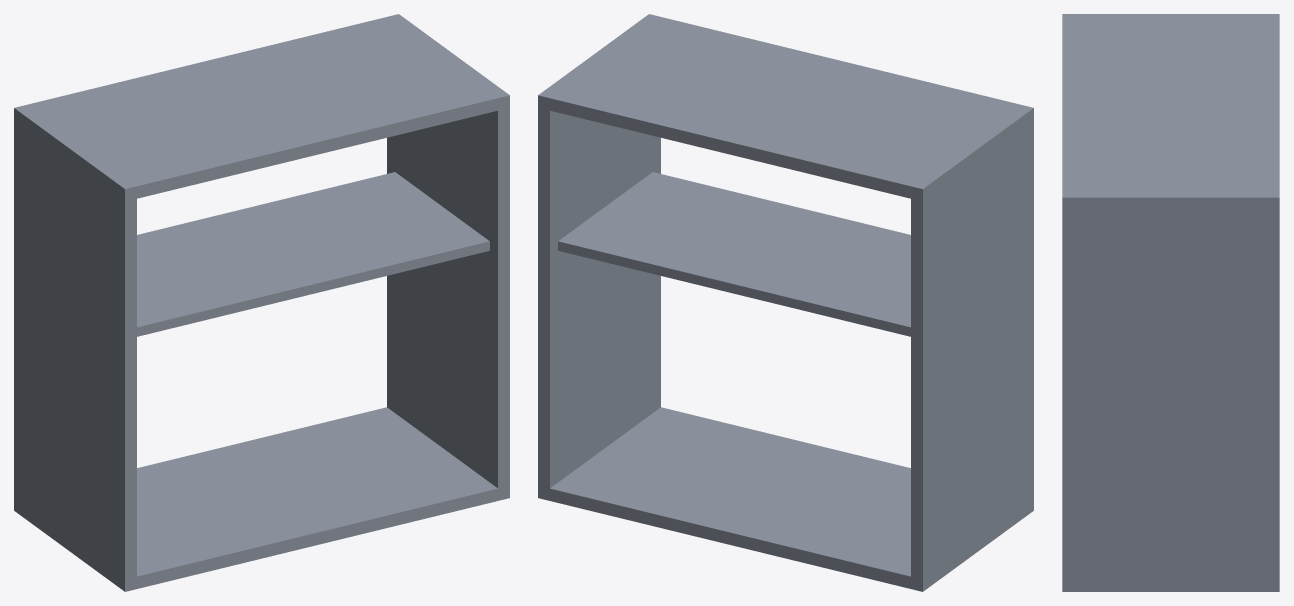
Rendered from lab-cabinet.glb.
The picture shows the model from 3 angles, left to right: view 1: azimuth 30°, elevation 25°; view 2: azimuth 150°, elevation 25°; view 3: azimuth 270°, elevation 25°; orthographic projection. The views are drawn at different scales.
Parts seen in each view (by area): view 1: cabinet_cabinet_two_shelves; view 2: cabinet_cabinet_two_shelves; view 3: cabinet_cabinet_two_shelves.
Part boxes in pixels (x1=…): cabinet_cabinet_two_shelves: x1=14, y1=14, x2=509, y2=591; cabinet_cabinet_two_shelves: x1=538, y1=14, x2=1033, y2=591; cabinet_cabinet_two_shelves: x1=1062, y1=14, x2=1279, y2=591.
Bounding box in the file's own units: 62.02 × 62.02 × 31.02.
Materials: 1 (1 with a texture image).
